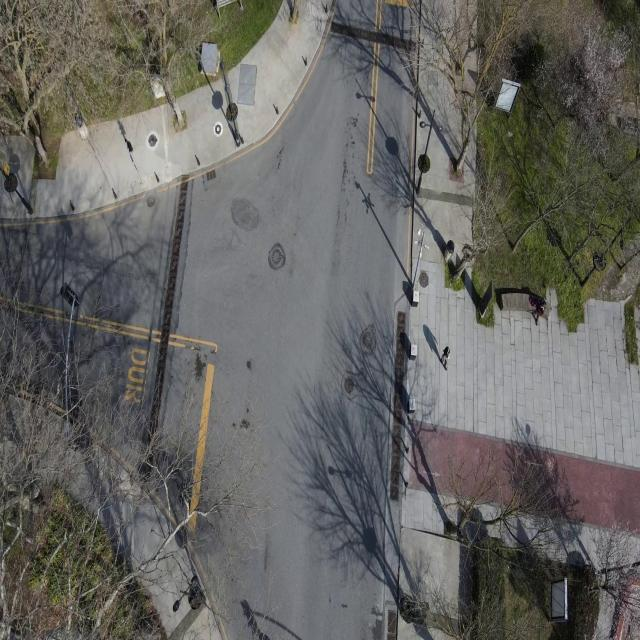p3rson: (532, 298, 547, 325), (441, 345, 449, 371)
